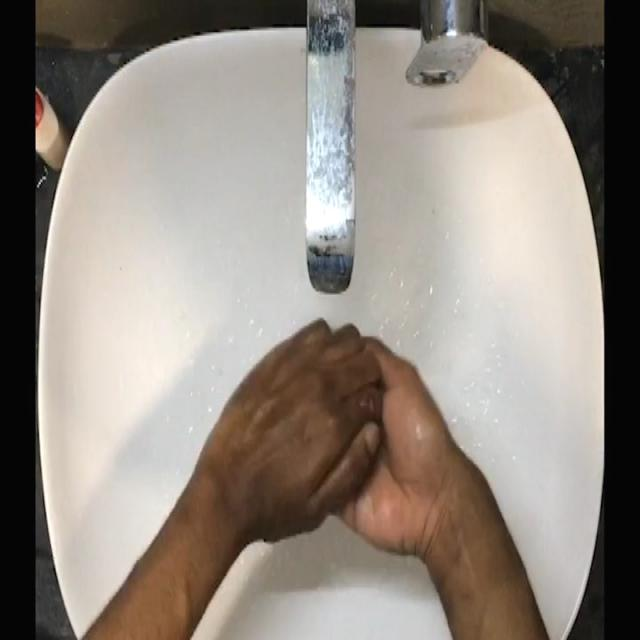step_4: (215, 312, 439, 552)
